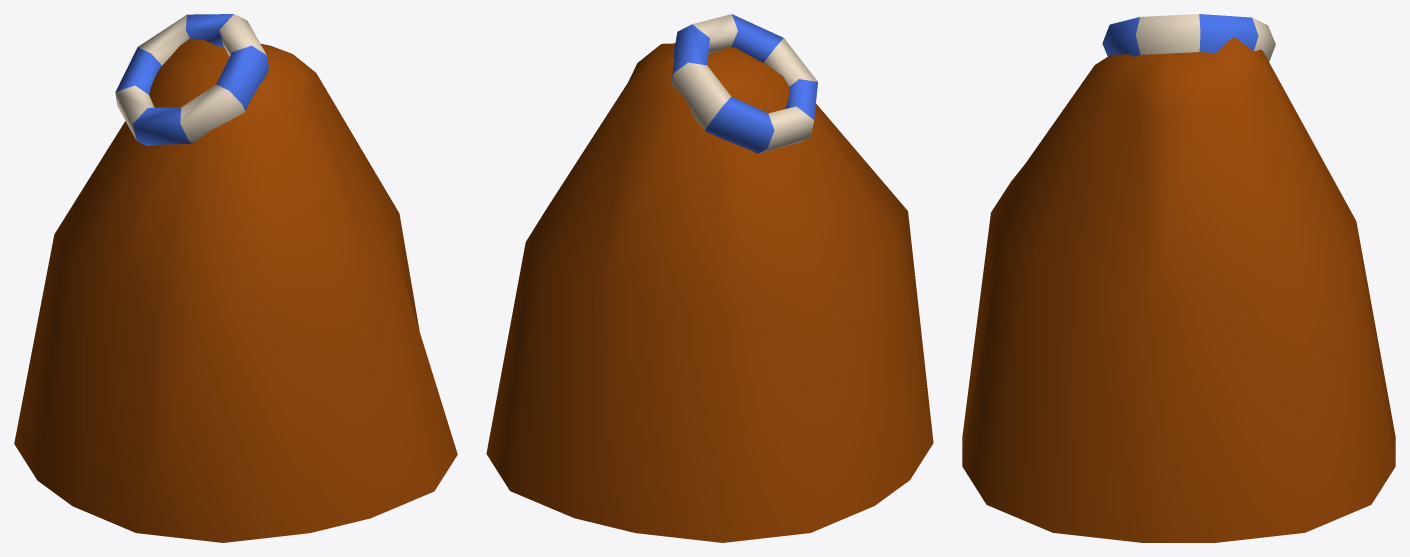
The model's file is Block4.fbx.
3 views of the same model, side by side, from view 1: azimuth 30°, elevation 25°; view 2: azimuth 150°, elevation 25°; view 3: azimuth 270°, elevation 25° (orthographic). The views are drawn at different scales.
Parts seen in each view (by area): view 1: Torus; view 2: Torus; view 3: Torus.
Part boxes in pixels (bbox=[...]): Torus: bbox=[14, 14, 457, 542]; Torus: bbox=[486, 14, 933, 542]; Torus: bbox=[962, 14, 1395, 542].
Bounding box in the file's own units: 252 × 284 × 252.
